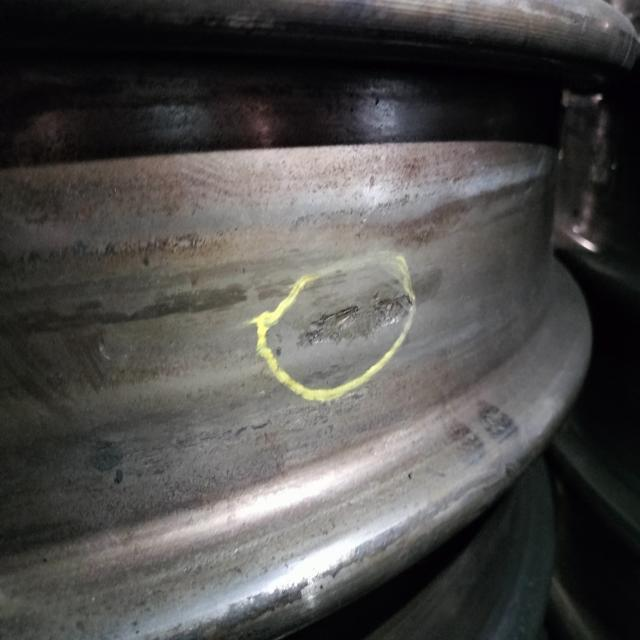Rollerpile: (306, 292, 414, 345)
